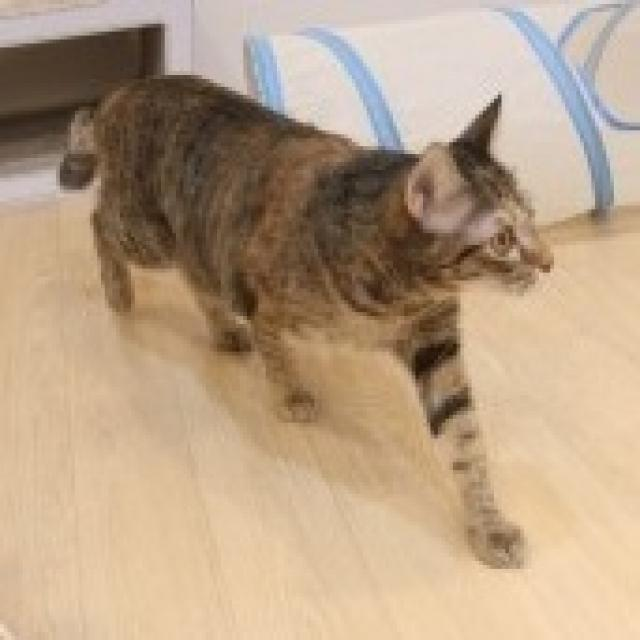cat: (44, 57, 580, 582)
